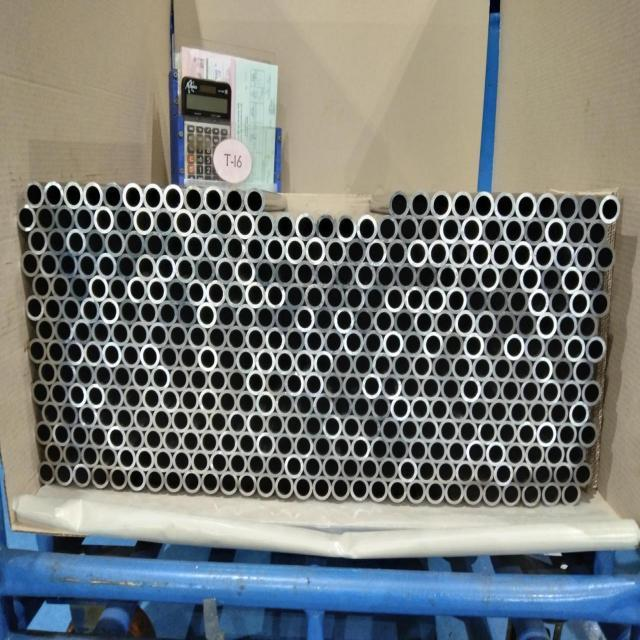pipe: (578, 193, 600, 224), (503, 215, 525, 246), (565, 217, 587, 248), (587, 218, 609, 249), (553, 241, 575, 272), (494, 192, 517, 221), (451, 191, 473, 221), (473, 191, 495, 221), (536, 192, 558, 222), (377, 214, 399, 244), (398, 214, 420, 244), (418, 215, 440, 245), (440, 215, 462, 245), (461, 215, 483, 245), (482, 216, 504, 246), (524, 216, 546, 246), (545, 217, 567, 247), (386, 238, 408, 268), (407, 239, 429, 269), (511, 240, 533, 270), (532, 241, 554, 271), (437, 262, 459, 292), (540, 264, 562, 294), (582, 266, 604, 296), (409, 190, 431, 220), (557, 192, 578, 223), (174, 207, 195, 238), (430, 191, 452, 220), (315, 213, 337, 242), (325, 237, 347, 266), (345, 238, 367, 267), (428, 239, 450, 268), (449, 239, 471, 268), (334, 261, 356, 290), (416, 263, 438, 292), (457, 263, 479, 292), (499, 264, 521, 293), (519, 264, 541, 293), (404, 285, 426, 314), (425, 286, 447, 315), (445, 286, 467, 315), (466, 286, 488, 315), (487, 287, 509, 316), (508, 287, 530, 316), (548, 288, 570, 317), (454, 309, 476, 338), (556, 312, 578, 341), (516, 192, 537, 222), (599, 194, 620, 224), (154, 207, 175, 237), (214, 209, 235, 239), (234, 210, 255, 240), (336, 213, 357, 243), (491, 240, 512, 270), (479, 263, 500, 293), (123, 181, 144, 211), (203, 185, 224, 215), (244, 186, 265, 216), (389, 190, 410, 220), (384, 285, 406, 313), (434, 309, 456, 337), (495, 311, 517, 339), (74, 205, 95, 234), (94, 206, 115, 235), (113, 206, 134, 235), (133, 206, 154, 235), (255, 211, 276, 240), (356, 214, 377, 243), (85, 228, 106, 257), (205, 233, 226, 262), (225, 234, 246, 263), (245, 234, 266, 263), (265, 235, 286, 264), (285, 236, 306, 265), (305, 236, 326, 265), (366, 238, 387, 267), (471, 240, 492, 269), (574, 243, 595, 272), (116, 252, 137, 281), (175, 255, 196, 284), (235, 257, 256, 286), (255, 258, 276, 287), (275, 259, 296, 288), (295, 259, 316, 288), (315, 260, 336, 289), (355, 261, 376, 290), (376, 262, 397, 291), (561, 266, 582, 295), (127, 276, 148, 305), (265, 282, 286, 311), (285, 282, 306, 311), (528, 288, 549, 317), (334, 306, 355, 335), (475, 309, 496, 338), (516, 311, 537, 340), (536, 311, 557, 340), (577, 312, 598, 341), (443, 331, 464, 360), (143, 183, 164, 212), (163, 184, 184, 213), (224, 187, 245, 216), (55, 203, 75, 233), (194, 208, 214, 238), (569, 290, 591, 317), (275, 213, 296, 241), (295, 213, 316, 241), (125, 230, 146, 258), (594, 243, 615, 271), (136, 253, 157, 281), (195, 256, 216, 284), (397, 263, 418, 291), (324, 284, 345, 312), (365, 285, 386, 313), (314, 306, 335, 334), (374, 308, 395, 336), (394, 308, 415, 336), (414, 309, 435, 337), (484, 333, 505, 361), (504, 333, 525, 361), (544, 334, 565, 362), (565, 335, 586, 363), (585, 335, 606, 363), (532, 356, 553, 384), (553, 357, 574, 385), (573, 357, 594, 385), (581, 380, 602, 408), (36, 204, 56, 233), (66, 228, 86, 257), (105, 229, 125, 258), (145, 231, 165, 260), (165, 231, 185, 260), (185, 232, 205, 261), (215, 257, 235, 286), (103, 182, 123, 211), (184, 185, 204, 214), (422, 332, 444, 358), (89, 274, 110, 301), (245, 282, 266, 309), (305, 284, 326, 311), (177, 301, 198, 328), (255, 304, 276, 331), (354, 307, 375, 334), (91, 319, 112, 346), (285, 327, 306, 354), (324, 329, 345, 356), (464, 333, 485, 360), (524, 334, 545, 361), (140, 343, 161, 370), (275, 349, 296, 376), (313, 350, 334, 377), (372, 352, 393, 379), (432, 354, 453, 381), (492, 355, 513, 382), (513, 357, 534, 384), (381, 373, 402, 400), (440, 376, 461, 403), (461, 376, 482, 403), (500, 378, 521, 405), (520, 378, 541, 405), (541, 379, 562, 406), (561, 379, 582, 406), (391, 396, 412, 423), (410, 396, 431, 423), (449, 397, 470, 424), (469, 397, 490, 424), (489, 399, 510, 426), (508, 400, 529, 427), (529, 400, 550, 427), (569, 400, 590, 427), (548, 401, 569, 428), (457, 418, 478, 445), (516, 420, 537, 447), (536, 420, 557, 447), (557, 421, 578, 448), (578, 422, 599, 449), (545, 442, 566, 469), (566, 442, 587, 469), (525, 442, 546, 469), (17, 204, 37, 232), (39, 250, 59, 278), (77, 252, 97, 280), (97, 252, 117, 280), (156, 254, 176, 282), (50, 273, 70, 301), (108, 275, 128, 303), (147, 277, 167, 305), (166, 278, 186, 306), (345, 284, 365, 312), (590, 290, 610, 318), (80, 296, 100, 324), (100, 297, 120, 325), (197, 301, 217, 329), (129, 320, 149, 348), (149, 321, 169, 349), (160, 343, 180, 371), (179, 344, 199, 372), (25, 181, 45, 209), (29, 227, 48, 256), (246, 369, 267, 395), (58, 251, 78, 278), (70, 274, 90, 301), (186, 279, 206, 306), (206, 280, 226, 307), (226, 281, 246, 308), (24, 295, 44, 322), (119, 298, 139, 325), (138, 299, 158, 326), (157, 300, 177, 327), (216, 302, 236, 329), (236, 303, 256, 330), (275, 305, 295, 332), (295, 305, 315, 332), (168, 323, 188, 350), (187, 323, 207, 350), (207, 324, 227, 351), (226, 325, 246, 352), (246, 326, 266, 353), (265, 327, 285, 354), (304, 328, 324, 355), (344, 329, 364, 356), (363, 330, 383, 357), (383, 330, 403, 357), (403, 331, 423, 358), (27, 338, 47, 365), (102, 341, 122, 368), (121, 342, 141, 369), (198, 345, 218, 372), (217, 346, 237, 373), (256, 348, 276, 375), (294, 350, 314, 377), (333, 351, 353, 378), (353, 351, 373, 378), (392, 352, 412, 379), (412, 353, 432, 380), (452, 355, 472, 382), (472, 355, 492, 382), (112, 363, 132, 390), (189, 367, 209, 394), (265, 370, 285, 397), (284, 370, 304, 397), (342, 372, 362, 399), (362, 373, 382, 400), (401, 374, 421, 401), (421, 375, 441, 402), (481, 377, 501, 404), (313, 392, 333, 419), (352, 394, 372, 421), (371, 394, 391, 421), (430, 396, 450, 423), (438, 418, 458, 445), (477, 419, 497, 446), (497, 420, 517, 447), (63, 183, 83, 210), (48, 228, 67, 256), (33, 273, 52, 301), (31, 379, 50, 407), (84, 182, 103, 210), (236, 348, 257, 373), (150, 365, 170, 391), (169, 366, 189, 392), (208, 368, 228, 394), (304, 371, 324, 397), (323, 372, 343, 398), (104, 384, 124, 410), (142, 386, 162, 412), (160, 387, 180, 413), (179, 387, 199, 413), (199, 388, 219, 414), (275, 391, 295, 417), (294, 392, 314, 418), (332, 394, 352, 420), (190, 408, 210, 434), (208, 409, 228, 435), (246, 411, 266, 437), (265, 412, 285, 438), (322, 414, 342, 440), (361, 415, 381, 441), (381, 416, 401, 442), (400, 417, 420, 443), (419, 417, 439, 443), (125, 426, 145, 452), (143, 426, 163, 452), (162, 427, 182, 453), (181, 428, 201, 454), (199, 429, 219, 455), (218, 431, 238, 457), (237, 431, 257, 457), (256, 432, 276, 458), (294, 433, 314, 459), (332, 434, 352, 460), (370, 436, 390, 462), (389, 437, 409, 463), (408, 438, 428, 464), (427, 439, 447, 465), (446, 439, 466, 465), (466, 440, 486, 466), (486, 441, 506, 467), (505, 443, 525, 469), (265, 453, 285, 479), (321, 455, 341, 481), (341, 455, 361, 481), (360, 456, 380, 482), (379, 457, 399, 483), (398, 458, 418, 484), (417, 459, 437, 485), (436, 459, 456, 485), (455, 460, 475, 486), (494, 461, 514, 487), (475, 461, 495, 487), (553, 461, 573, 487), (573, 461, 593, 487), (513, 462, 533, 488), (533, 462, 553, 488), (219, 471, 239, 497), (256, 472, 276, 498), (237, 472, 257, 498), (275, 474, 295, 500), (293, 475, 313, 501), (312, 475, 332, 501), (331, 476, 351, 502), (349, 476, 369, 502), (368, 477, 388, 503), (387, 478, 407, 504), (407, 479, 427, 505), (425, 480, 445, 506), (463, 480, 483, 506), (444, 481, 464, 507), (483, 481, 503, 507), (521, 482, 541, 508), (542, 482, 562, 508), (561, 482, 581, 508), (502, 482, 522, 508), (44, 295, 63, 322), (62, 296, 81, 323), (36, 317, 55, 344), (54, 317, 73, 344), (73, 318, 92, 345), (111, 320, 130, 347), (47, 339, 66, 366), (65, 340, 84, 367), (39, 359, 58, 386), (76, 361, 95, 388), (94, 362, 113, 389), (124, 384, 143, 411), (115, 405, 134, 432), (134, 405, 153, 432), (153, 407, 172, 434), (171, 407, 190, 434), (44, 182, 63, 209), (256, 391, 276, 416), (227, 411, 247, 436), (285, 413, 305, 438), (342, 415, 362, 440), (275, 433, 295, 458), (312, 435, 332, 460), (350, 436, 370, 461), (247, 452, 267, 477), (284, 454, 304, 479), (21, 251, 40, 277), (57, 361, 76, 387), (132, 364, 151, 390), (228, 369, 247, 395), (50, 382, 69, 408), (68, 382, 87, 408), (218, 389, 237, 415), (41, 401, 60, 427), (97, 404, 116, 430), (304, 413, 323, 439), (303, 454, 322, 480), (236, 391, 256, 415), (79, 404, 98, 429), (71, 423, 90, 448), (90, 425, 109, 450), (63, 443, 82, 468), (81, 444, 100, 469), (99, 445, 118, 470), (117, 445, 136, 470), (136, 447, 155, 472), (173, 448, 192, 473), (154, 448, 173, 473), (191, 449, 210, 474), (210, 450, 229, 475), (228, 451, 247, 476), (73, 463, 92, 488), (91, 464, 110, 489), (109, 466, 128, 491), (127, 467, 146, 492), (146, 468, 165, 493), (164, 468, 183, 493), (183, 469, 202, 494), (201, 470, 220, 495), (84, 341, 102, 367), (87, 383, 105, 409), (60, 402, 78, 427), (53, 422, 71, 447), (108, 426, 126, 451), (45, 441, 63, 466), (37, 461, 55, 486), (55, 462, 73, 487), (36, 420, 53, 445)
